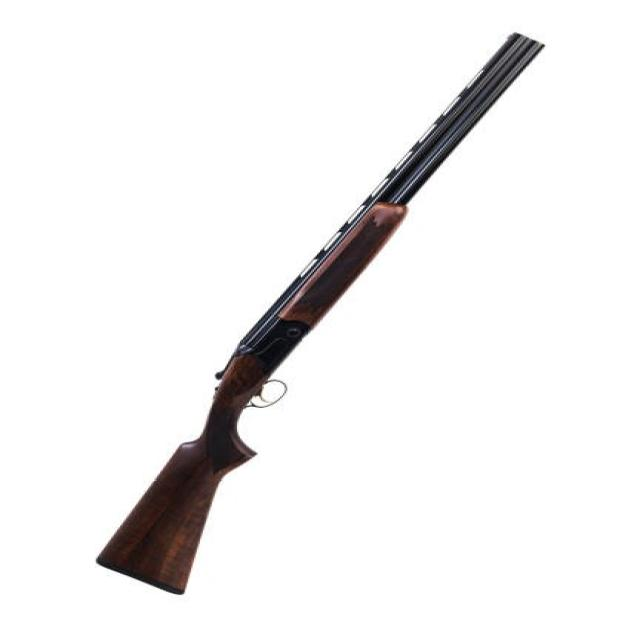rifle: (91, 26, 556, 612)
